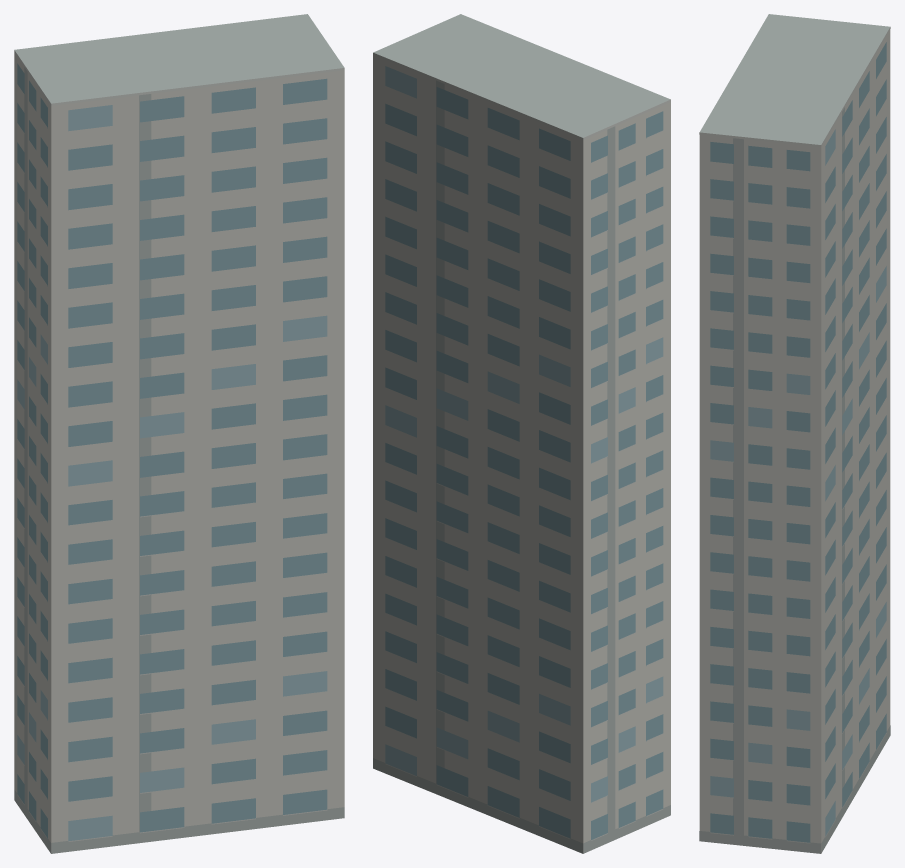
Rendered from residential-f4d29d48-b456-40d2-9f49-45338239d4e0.glb.
3 views of the same model, side by side, from view 1: azimuth 30°, elevation 25°; view 2: azimuth 150°, elevation 25°; view 3: azimuth 270°, elevation 25° (orthographic). The views are drawn at different scales.
Parts seen in each view (by area): view 1: residential-f4d29d48-b456-40d2-9f49-45338239d4e0.tmp; view 2: residential-f4d29d48-b456-40d2-9f49-45338239d4e0.tmp; view 3: residential-f4d29d48-b456-40d2-9f49-45338239d4e0.tmp.
Part boxes in pixels (x1=…): residential-f4d29d48-b456-40d2-9f49-45338239d4e0.tmp: x1=14, y1=14, x2=344, y2=853; residential-f4d29d48-b456-40d2-9f49-45338239d4e0.tmp: x1=373, y1=14, x2=670, y2=853; residential-f4d29d48-b456-40d2-9f49-45338239d4e0.tmp: x1=699, y1=14, x2=890, y2=853.
Size of the model in its own units: 30.55 by 77 by 18.81.
